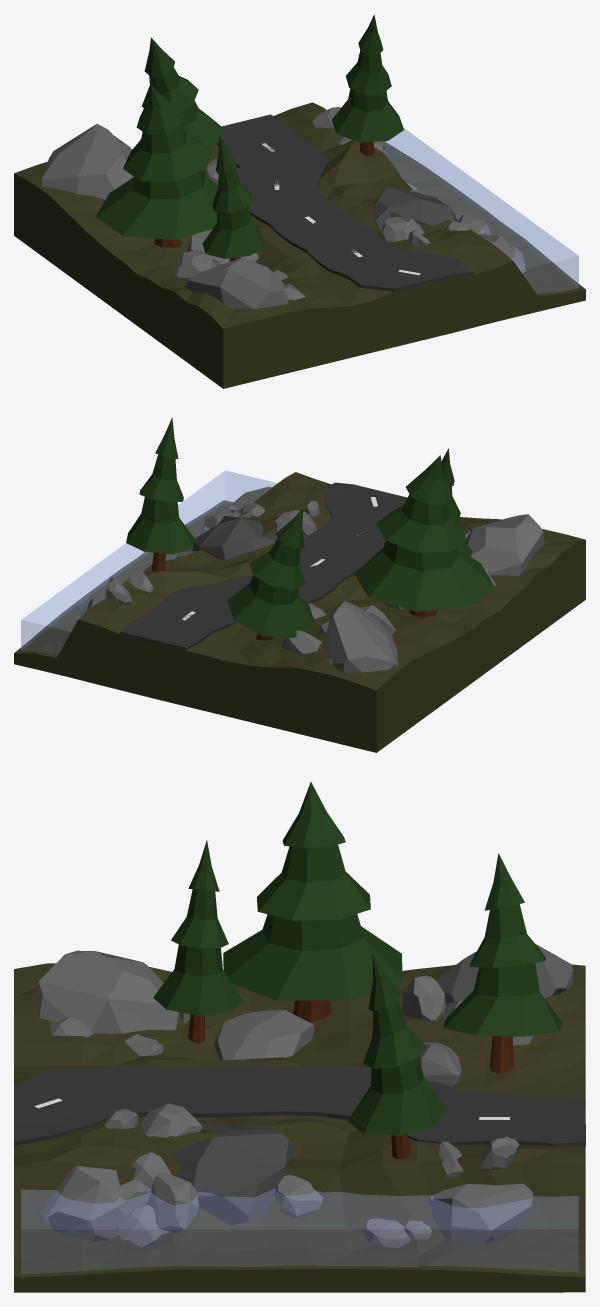
Rendered from forest-road.glb.
3 views of the same model, one above another, from view 1: azimuth 30°, elevation 25°; view 2: azimuth 150°, elevation 25°; view 3: azimuth 270°, elevation 25° (orthographic). The views are drawn at different scales.
Parts seen in each view (by area): view 1: Terrain, Road, Tree, Water, Tree.003, Rock.003, Tree.006, Rock.001, Tree.002, Rock, Rock.007, Rock.022 (+2 smaller); view 2: Terrain, Road, Tree, Water, Tree.002, Tree.003, Rock.003, Rock.001, Rock, Tree.006, Rock.010, Rock.022 (+1 smaller); view 3: Terrain, Water, Road, Tree, Tree.002, Tree.003, Rock.001, Rock, Tree.006, Rock.014, Rock.017, Rock.020 (+10 smaller).
Boxes of the visible parts, <box> form: Terrain: <box>14,102,585,388</box>; Road: <box>216,114,474,291</box>; Tree: <box>96,85,217,248</box>; Water: <box>380,127,578,293</box>; Tree.003: <box>331,14,403,155</box>; Rock.003: <box>41,124,133,199</box>; Tree.006: <box>202,134,264,261</box>; Rock.001: <box>184,257,288,309</box>; Tree.002: <box>140,37,224,149</box>; Rock: <box>372,186,458,230</box>; Rock.007: <box>174,250,215,277</box>; Rock.022: <box>381,217,423,241</box>; Terrain: <box>14,472,585,752</box>; Road: <box>119,482,407,650</box>; Tree: <box>354,455,494,616</box>; Water: <box>21,470,277,654</box>; Tree.002: <box>227,508,315,640</box>; Tree.003: <box>126,417,195,571</box>; Rock.003: <box>324,601,397,672</box>; Rock.001: <box>465,514,544,575</box>; Rock: <box>183,516,277,559</box>; Tree.006: <box>441,448,472,556</box>; Rock.010: <box>281,630,321,653</box>; Rock.022: <box>274,510,317,535</box>; Terrain: <box>14,963,585,1292</box>; Water: <box>21,1188,578,1273</box>; Road: <box>14,1065,585,1145</box>; Tree: <box>223,782,402,1022</box>; Tree.002: <box>443,853,562,1073</box>; Tree.003: <box>348,953,446,1159</box>; Rock.001: <box>37,950,180,1033</box>; Rock: <box>172,1124,295,1225</box>; Tree.006: <box>153,840,243,1043</box>; Rock.014: <box>40,1166,151,1241</box>; Rock.017: <box>428,1183,532,1244</box>; Rock.020: <box>214,1010,314,1059</box>.
Size of the model in its own units: 8.11 by 4.54 by 8.
